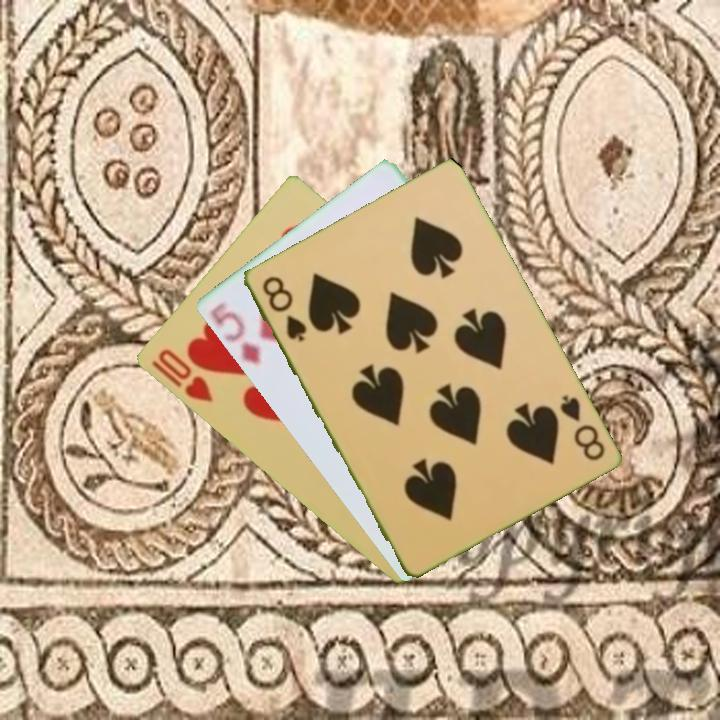10h: (147, 345, 216, 405)
5d: (206, 303, 264, 367)
8s: (556, 390, 608, 464), (258, 272, 309, 345)
